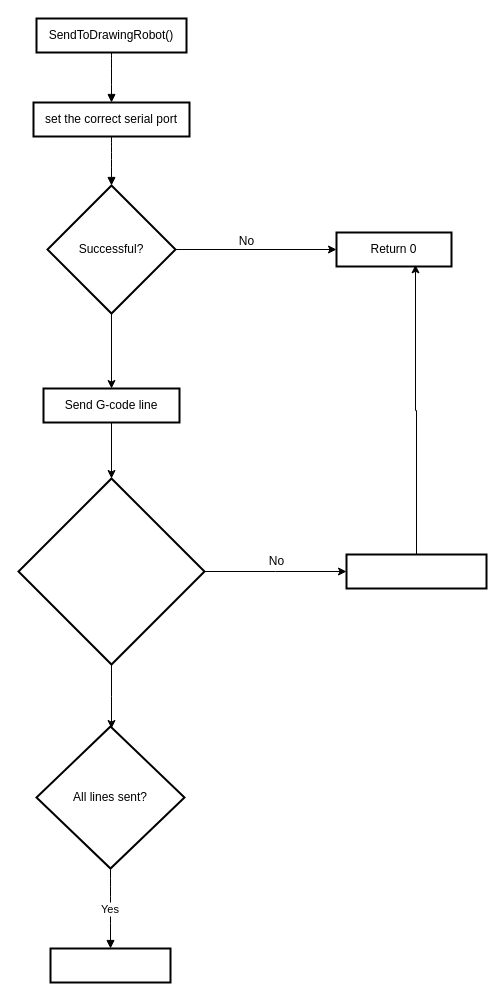
Image size: 504x1000. Some labels were removed from this diagram. Here are the shapes that lost their labels. From the top down, the box of each, then its label:
(17, 477, 205, 665): Response received?
(345, 553, 487, 589): Timeout handling
(49, 947, 171, 983): Return 1
